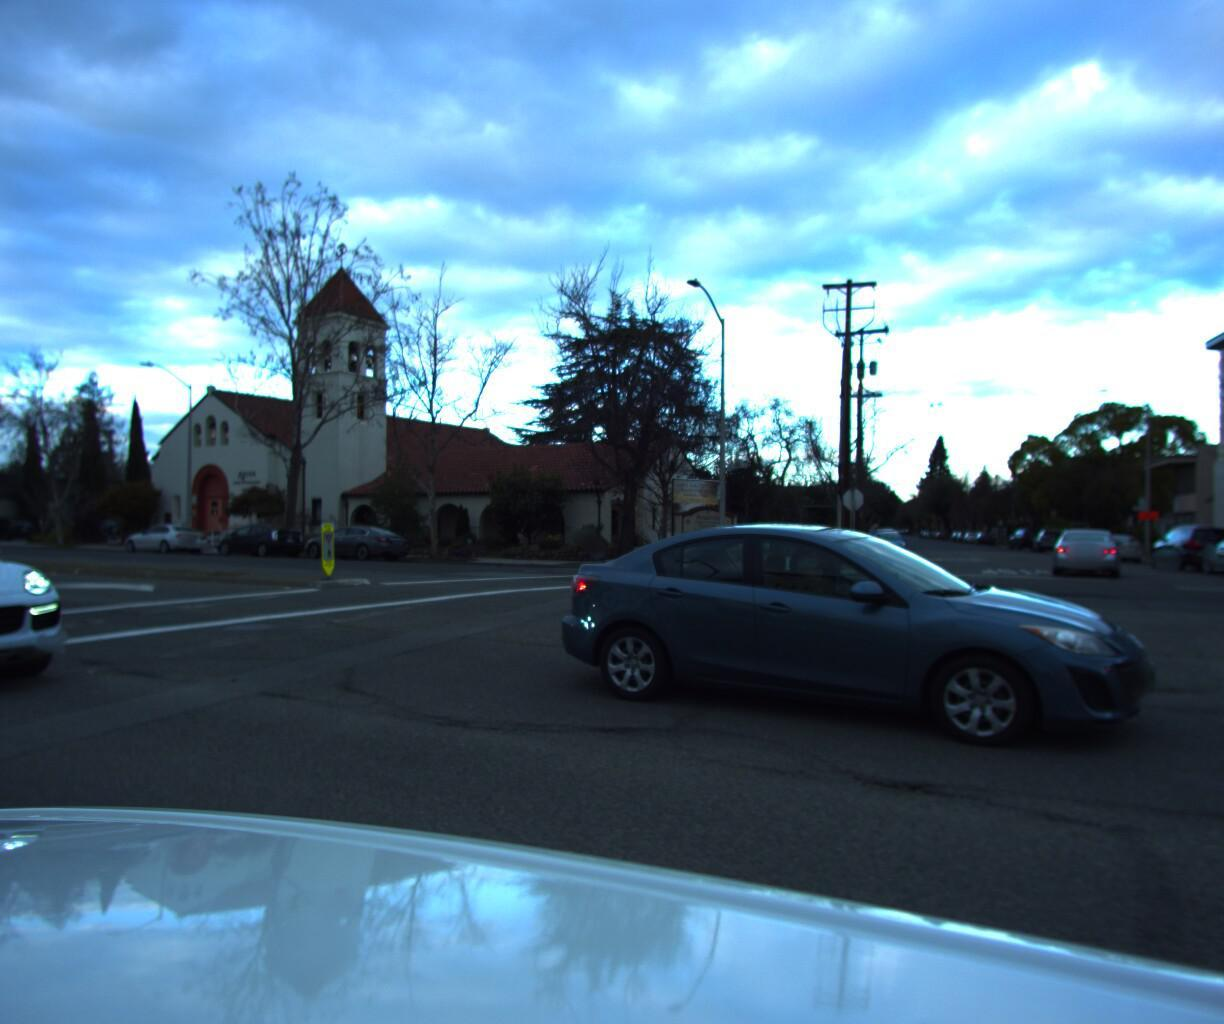car: (515, 506, 1105, 760), (0, 488, 91, 769), (291, 518, 413, 559), (1139, 518, 1224, 569), (206, 518, 308, 555), (1047, 522, 1118, 573), (116, 518, 210, 551), (1082, 526, 1147, 555), (1189, 525, 1224, 580), (868, 524, 909, 555), (1027, 522, 1069, 548), (0, 509, 38, 538), (1011, 520, 1047, 542)
